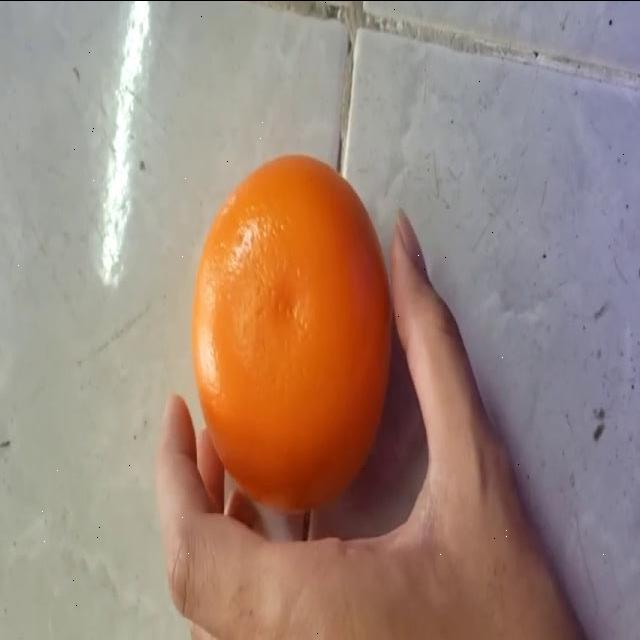Orange: (189, 153, 392, 514)
